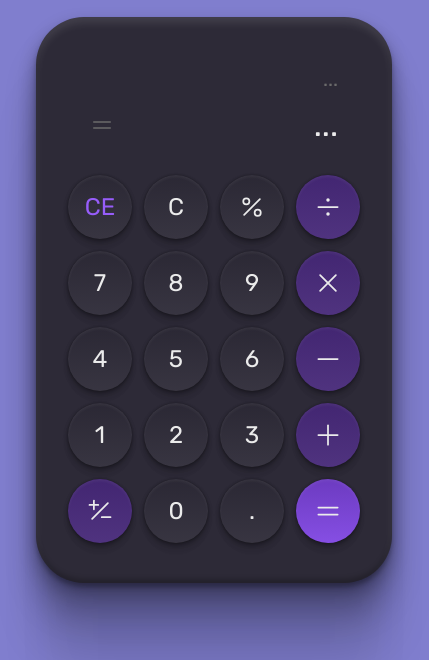
Test: Use the basic calculator operations › sum two numbers
Click the text with id "key-2": [176, 435] box [144,403,208,467]
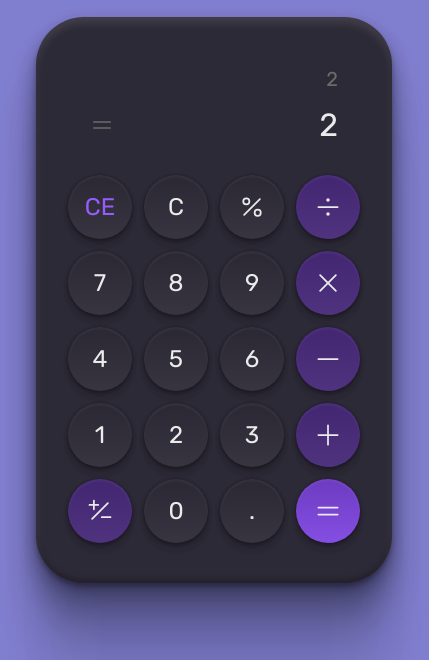
Click the element with id "key-plus": [328, 435] box [296,403,360,467]
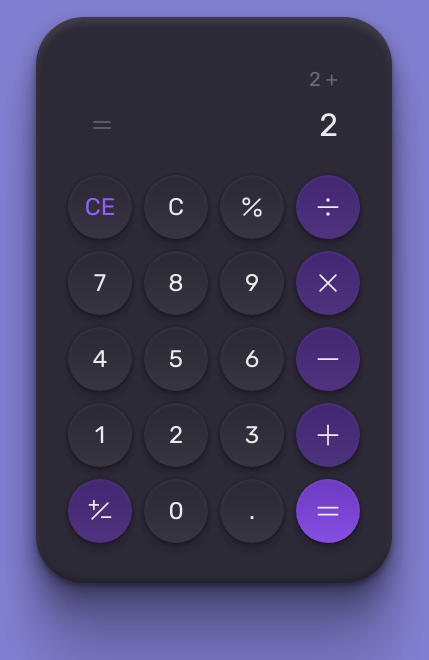
Click the text with id "key-2": [176, 435] box [144,403,208,467]
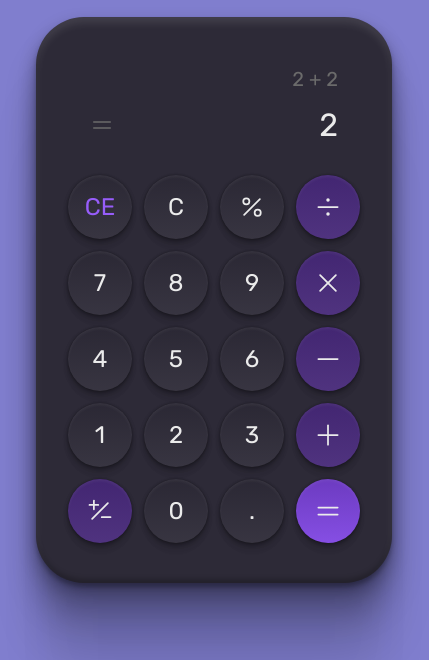
Check: the text with class "head-calculator-operations" reads "2 + 2", box [292,65,338,93]
Click the element with id "key-equals": [328, 511] box [296,479,360,543]
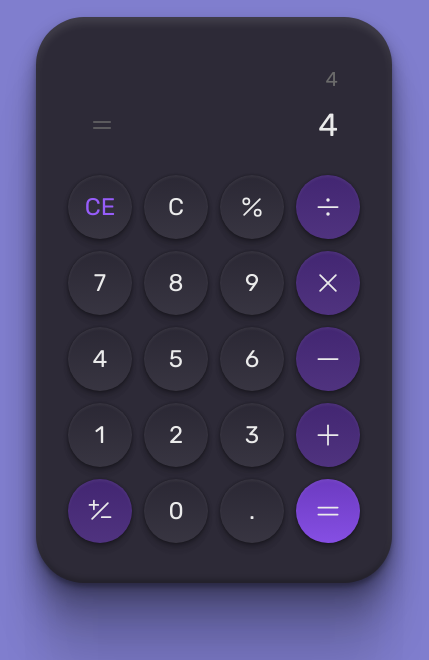
Check: the text with class "head-calculator-operations" reads "4", box [326,65,338,93]
Check: the text with id "result" reads "4", box [318,101,338,149]
